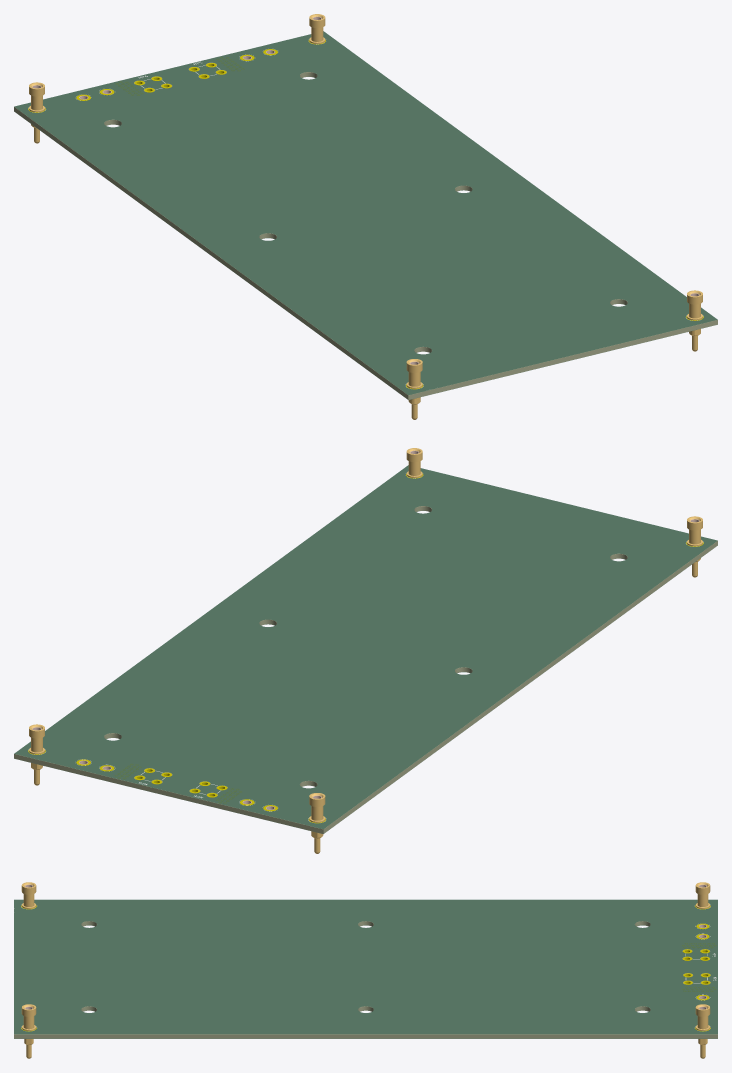
Rendered from Molecule_EVE_LF105_Prismatic.glb.
3 renders of one model, top to bottom at view 1: azimuth 30°, elevation 25°; view 2: azimuth 150°, elevation 25°; view 3: azimuth 270°, elevation 25°, orthographic. The views are drawn at different scales.
Visible parts, largest first — view 1: =>[0:1:1:7], =>[0:1:1:6], =>[0:1:1:4]; view 2: =>[0:1:1:7], =>[0:1:1:6], =>[0:1:1:4]; view 3: =>[0:1:1:7], =>[0:1:1:6], =>[0:1:1:3] (×4), =>[0:1:1:4].
Boxes of the visible parts, x1,y1,x2,y2 form: =>[0:1:1:7]: (14, 32, 717, 399); =>[0:1:1:6]: (14, 31, 717, 399); =>[0:1:1:4]: (28, 40, 703, 389); =>[0:1:1:7]: (14, 466, 717, 833); =>[0:1:1:6]: (14, 465, 717, 833); =>[0:1:1:4]: (28, 474, 703, 823); =>[0:1:1:7]: (14, 900, 717, 1038); =>[0:1:1:6]: (14, 899, 717, 1038); =>[0:1:1:3] (×4): (21, 882, 710, 1058); =>[0:1:1:4]: (21, 905, 714, 1031).
Bounding box in the file's own units: 0.106 × 0.0188 × 0.234.
